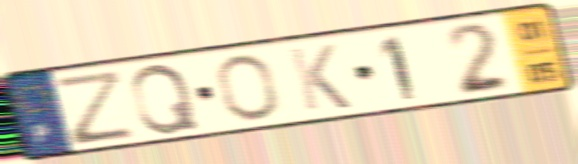1: (377, 33, 419, 102)
2: (441, 20, 515, 98)
K: (285, 42, 355, 114)
O: (213, 52, 284, 123)
Q: (128, 61, 203, 137)
Z: (51, 67, 139, 149)
